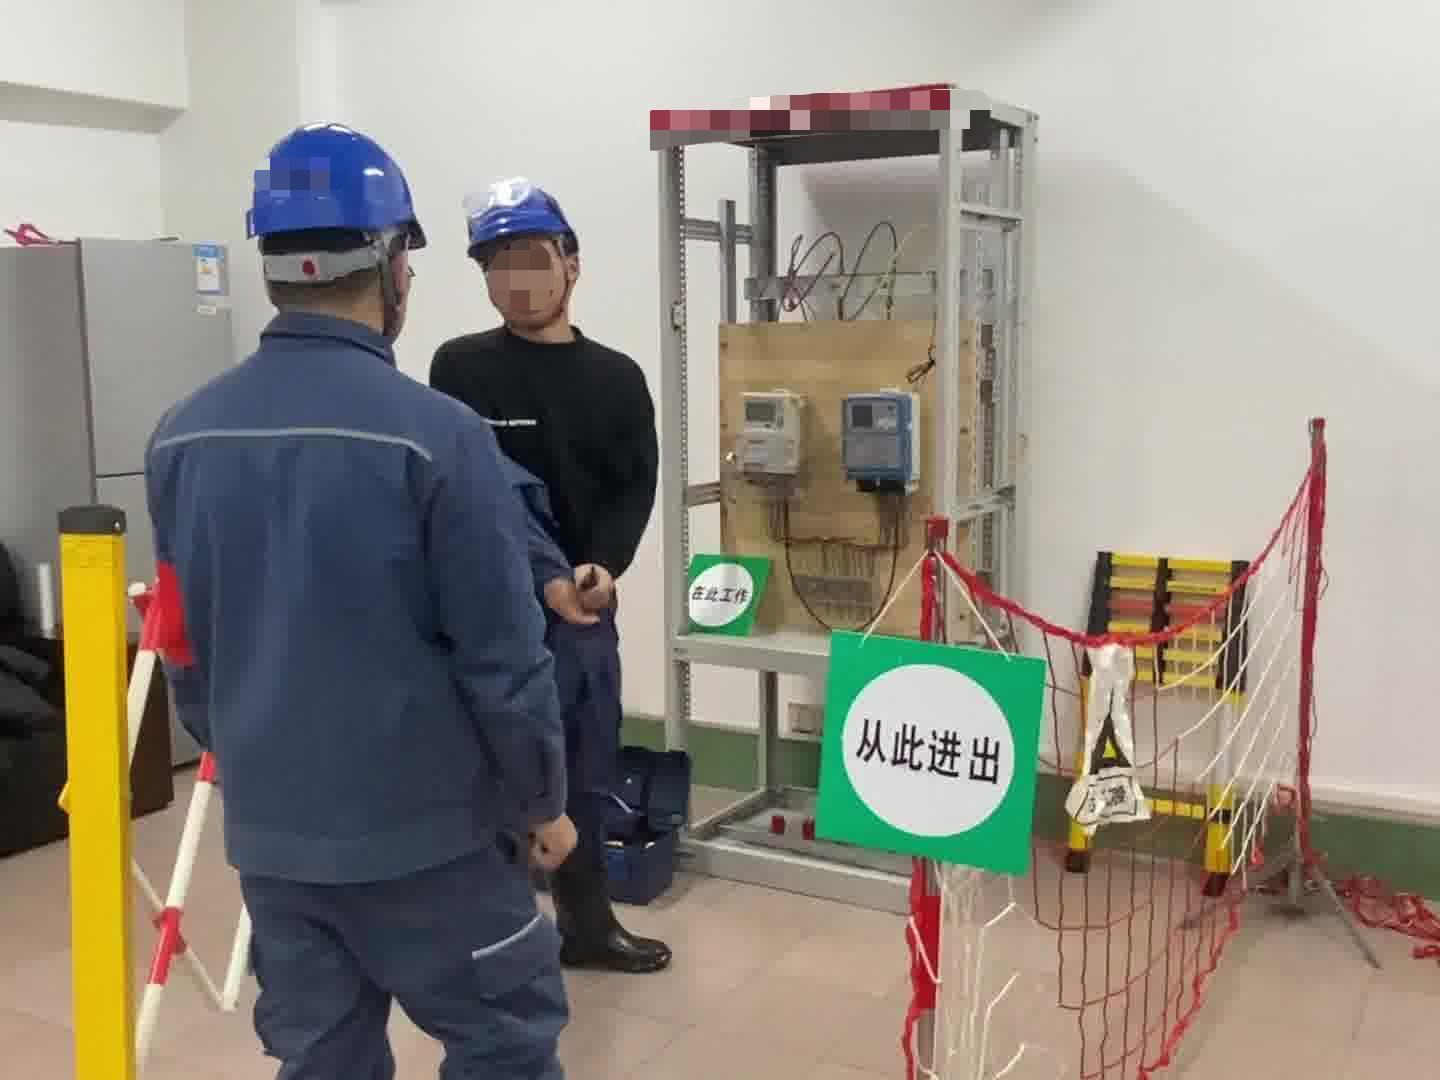halt: (244, 126, 434, 341), (466, 185, 593, 344)
